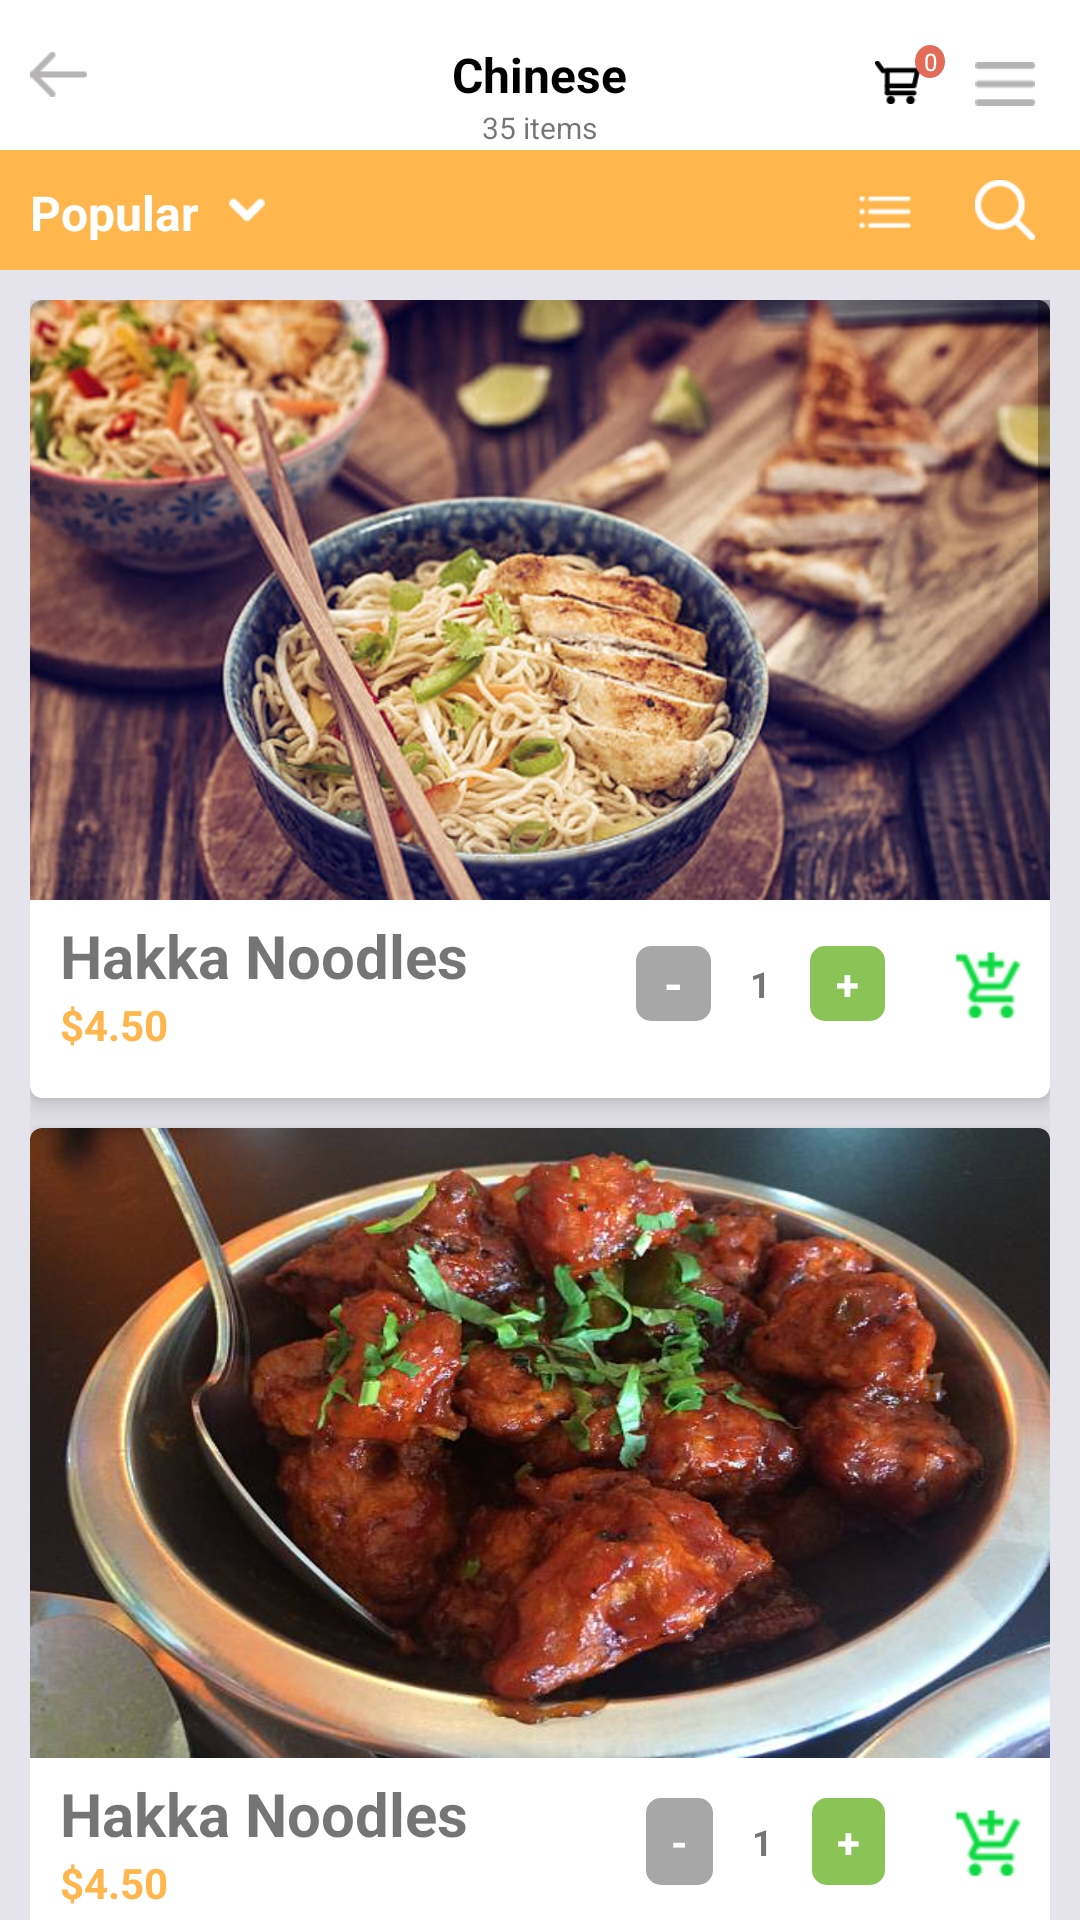

Where to tap for icons on this 1080px×1920px app screen, as point (x, y):
add to cart: point (988, 985), point (988, 1843)
back: point (58, 74)
cart: point (897, 82)
menu: point (1005, 84)
search: point (1005, 210)
